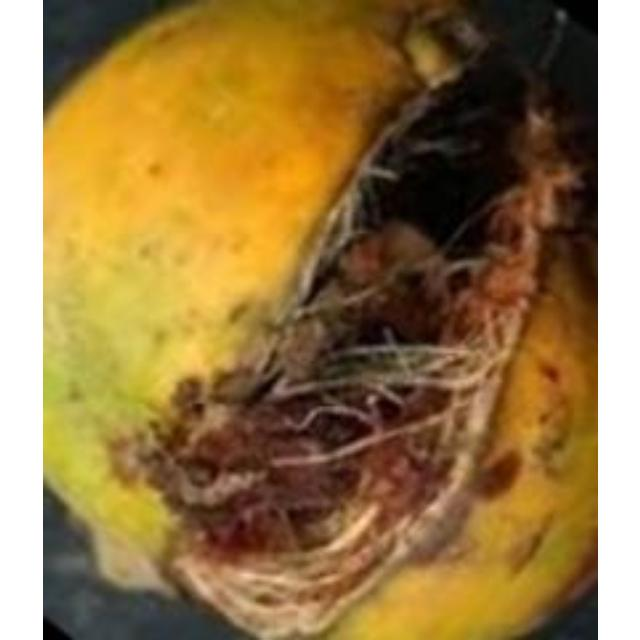damaged: (42, 0, 592, 637)
